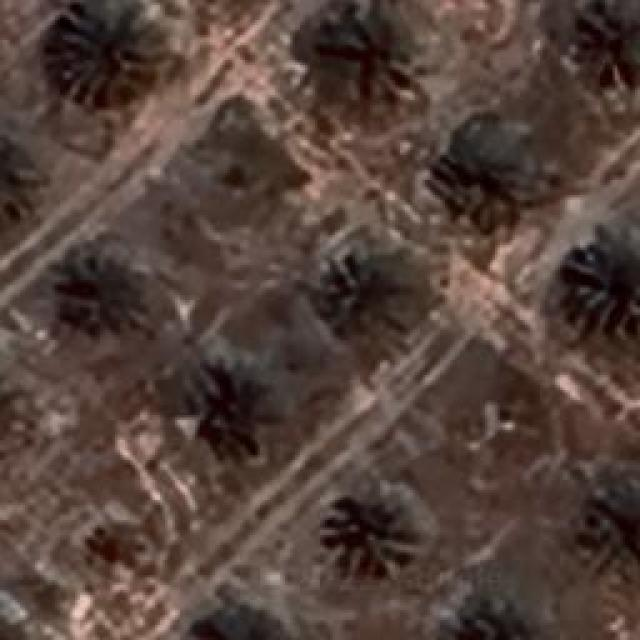PalmTree: (44, 98, 618, 515), (50, 0, 155, 102), (446, 122, 542, 225), (322, 480, 420, 568), (188, 358, 273, 458), (326, 14, 414, 108), (60, 255, 150, 338), (568, 222, 638, 328), (322, 254, 412, 332), (582, 0, 640, 95), (453, 587, 556, 640), (187, 605, 293, 640), (0, 350, 30, 450), (18, 95, 44, 180)
